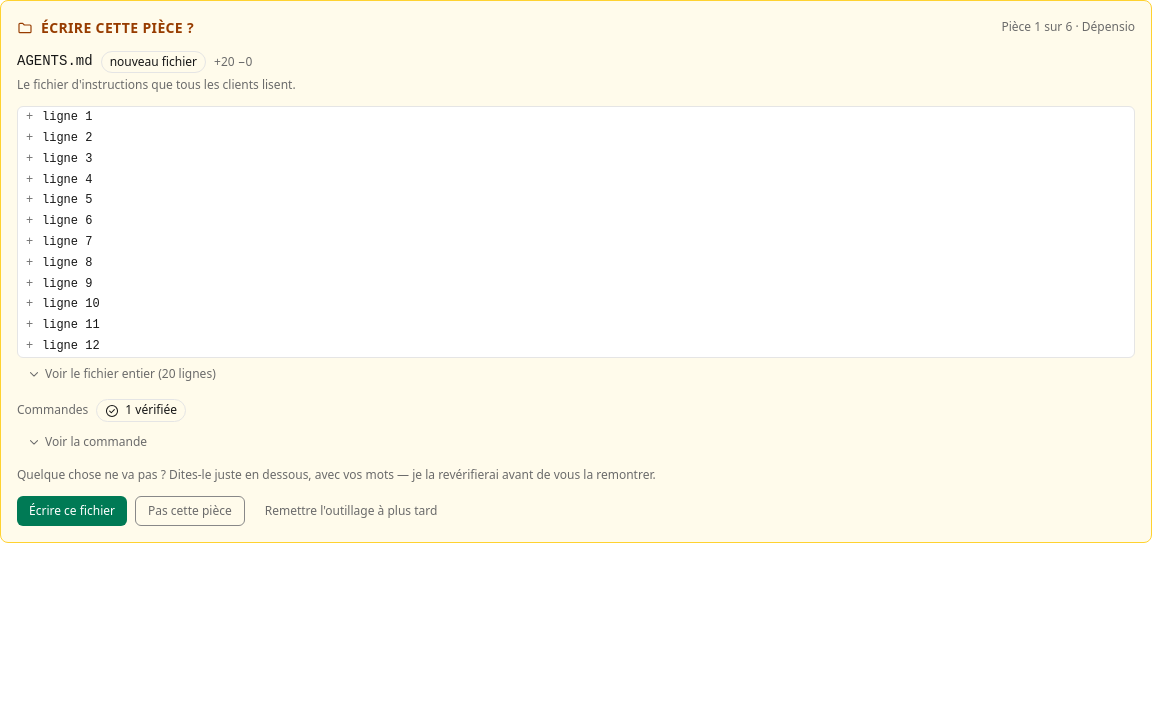
Test: la carte d'une pièce d'outillage › ④ une API qui ne répond pas se dit en mots, jamais « Failed to fetch »
Click the button "Pas cette pièce": (190, 511) top-left (135, 496), bottom-right (245, 526)
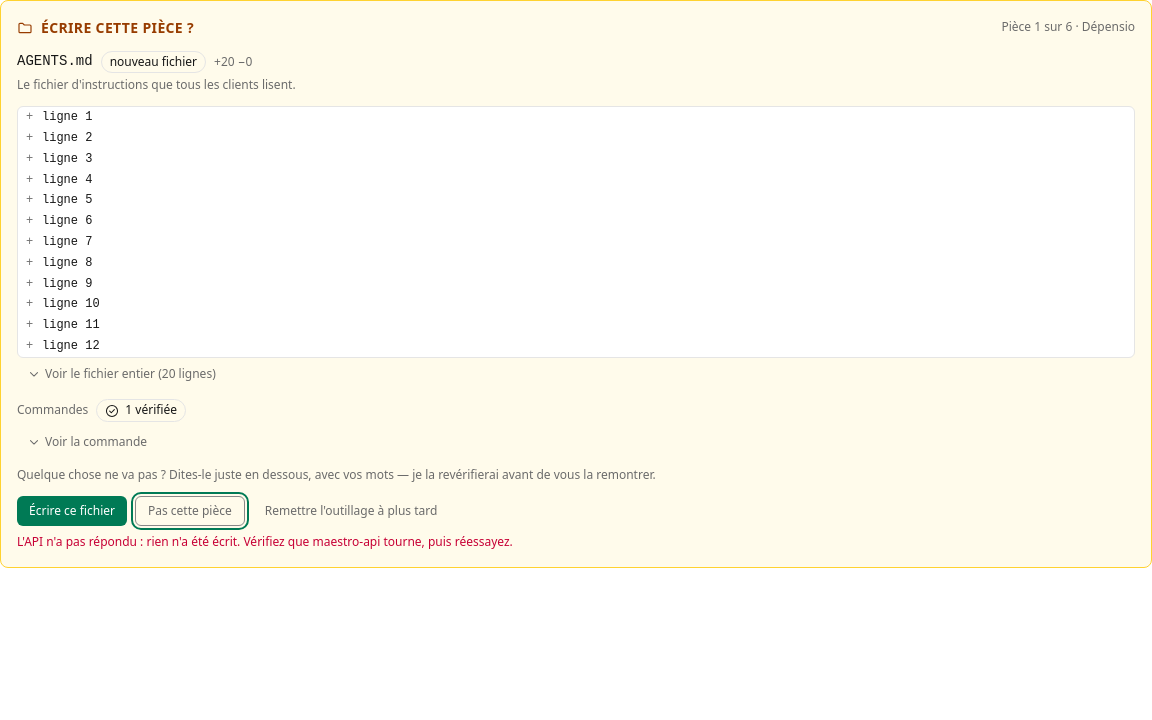
Expected: the message does not show "Failed to fetch", top-left (17, 533), bottom-right (513, 550)
Now the message shows "L'API n'a pas répondu : rien n'a été écrit.", box top-left (17, 533), bottom-right (513, 550)
